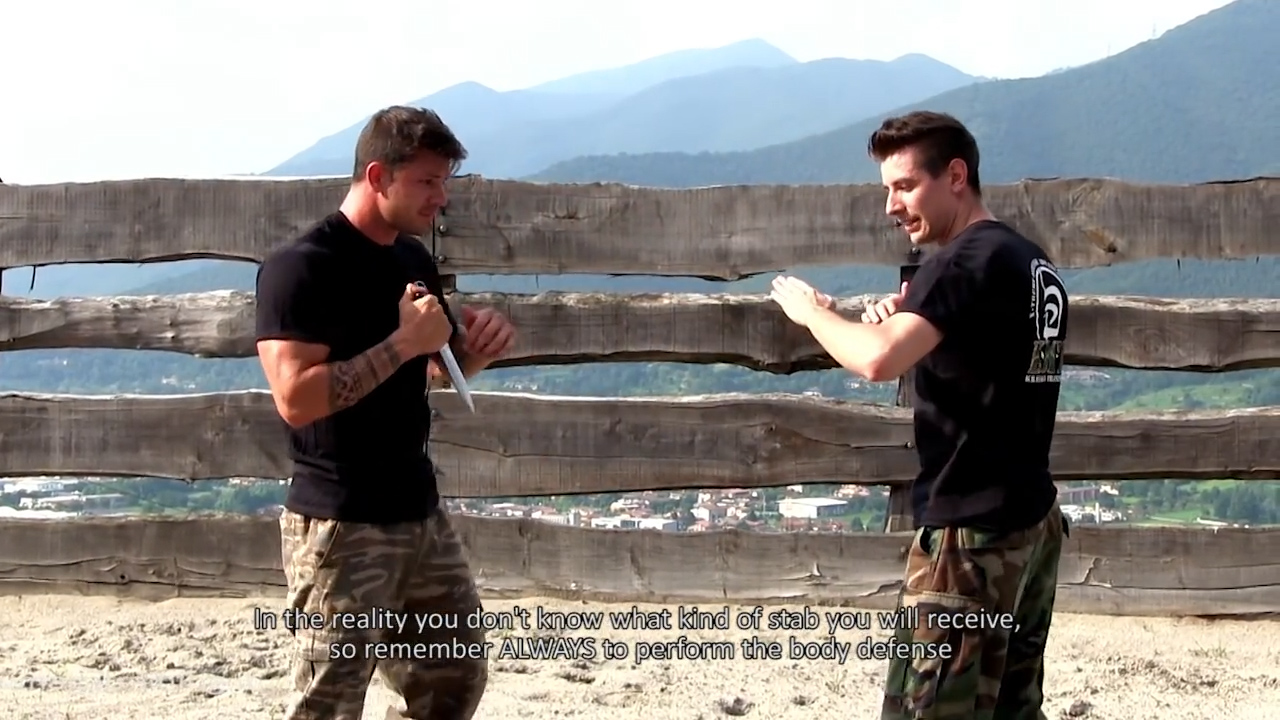knife: (401, 276, 478, 420)
